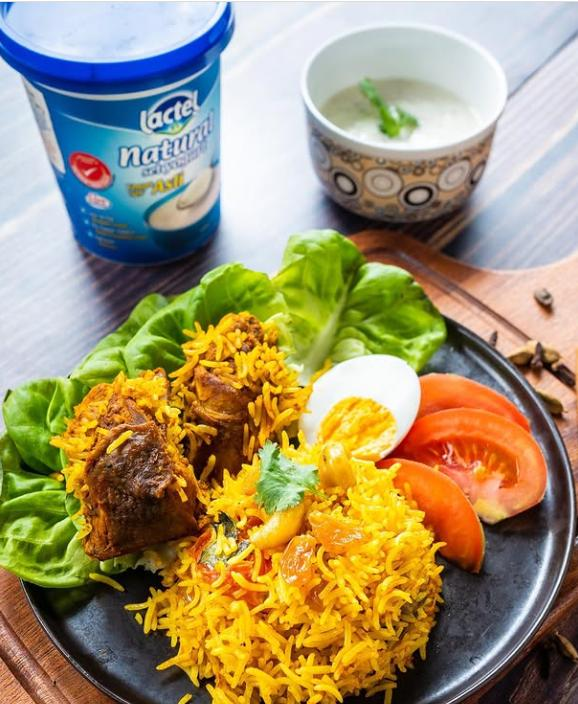buah_sayur_lainnya: (279, 262, 382, 332)
buah_sayur_vitA: (417, 415, 524, 522)
daging: (85, 396, 176, 536), (197, 338, 254, 443)
makanan_berpati: (218, 480, 386, 681)
produk_susu: (340, 80, 469, 136)
telur: (315, 367, 400, 451)
